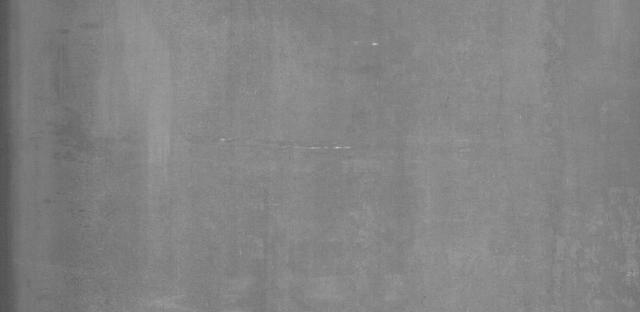crease: (205, 132, 382, 172)
